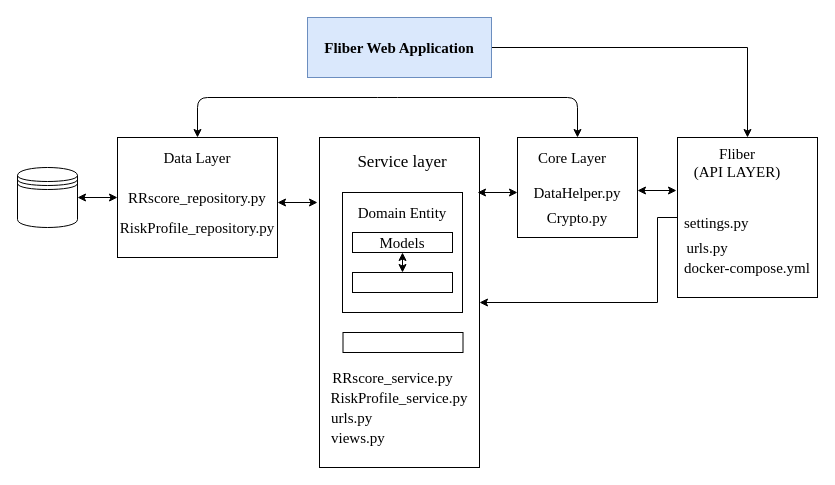
Image size: 835x485. Some labels were removed from this diagram. The box of each missing label's shape, as (x1, y1, x2, y2) in pixels:
Migrations: (342, 332, 463, 352)
Serializers: (352, 272, 452, 292)
